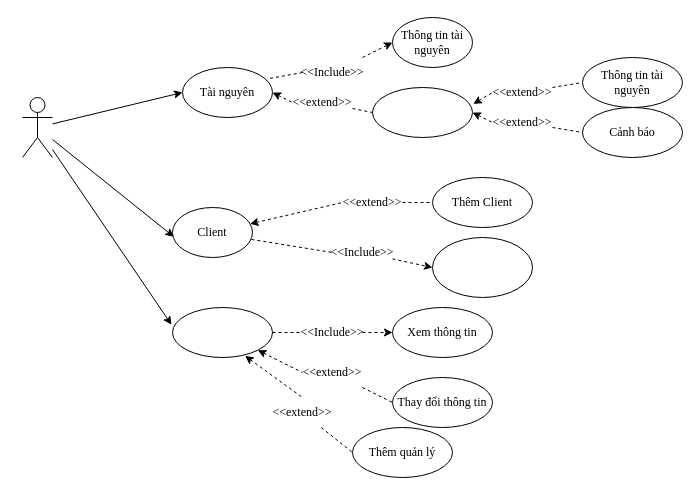
This 700x495 diagram has some shape labels left out. Here are the shapes that lost their labels. From the top down, the centre of each, then its label:
At [37,127]: "Quản lý".
At [422,112]: "Gửi mail quản lý".
At [482,267]: "Danh sách Client".
At [222,332]: "Quản lý cài đặt".
